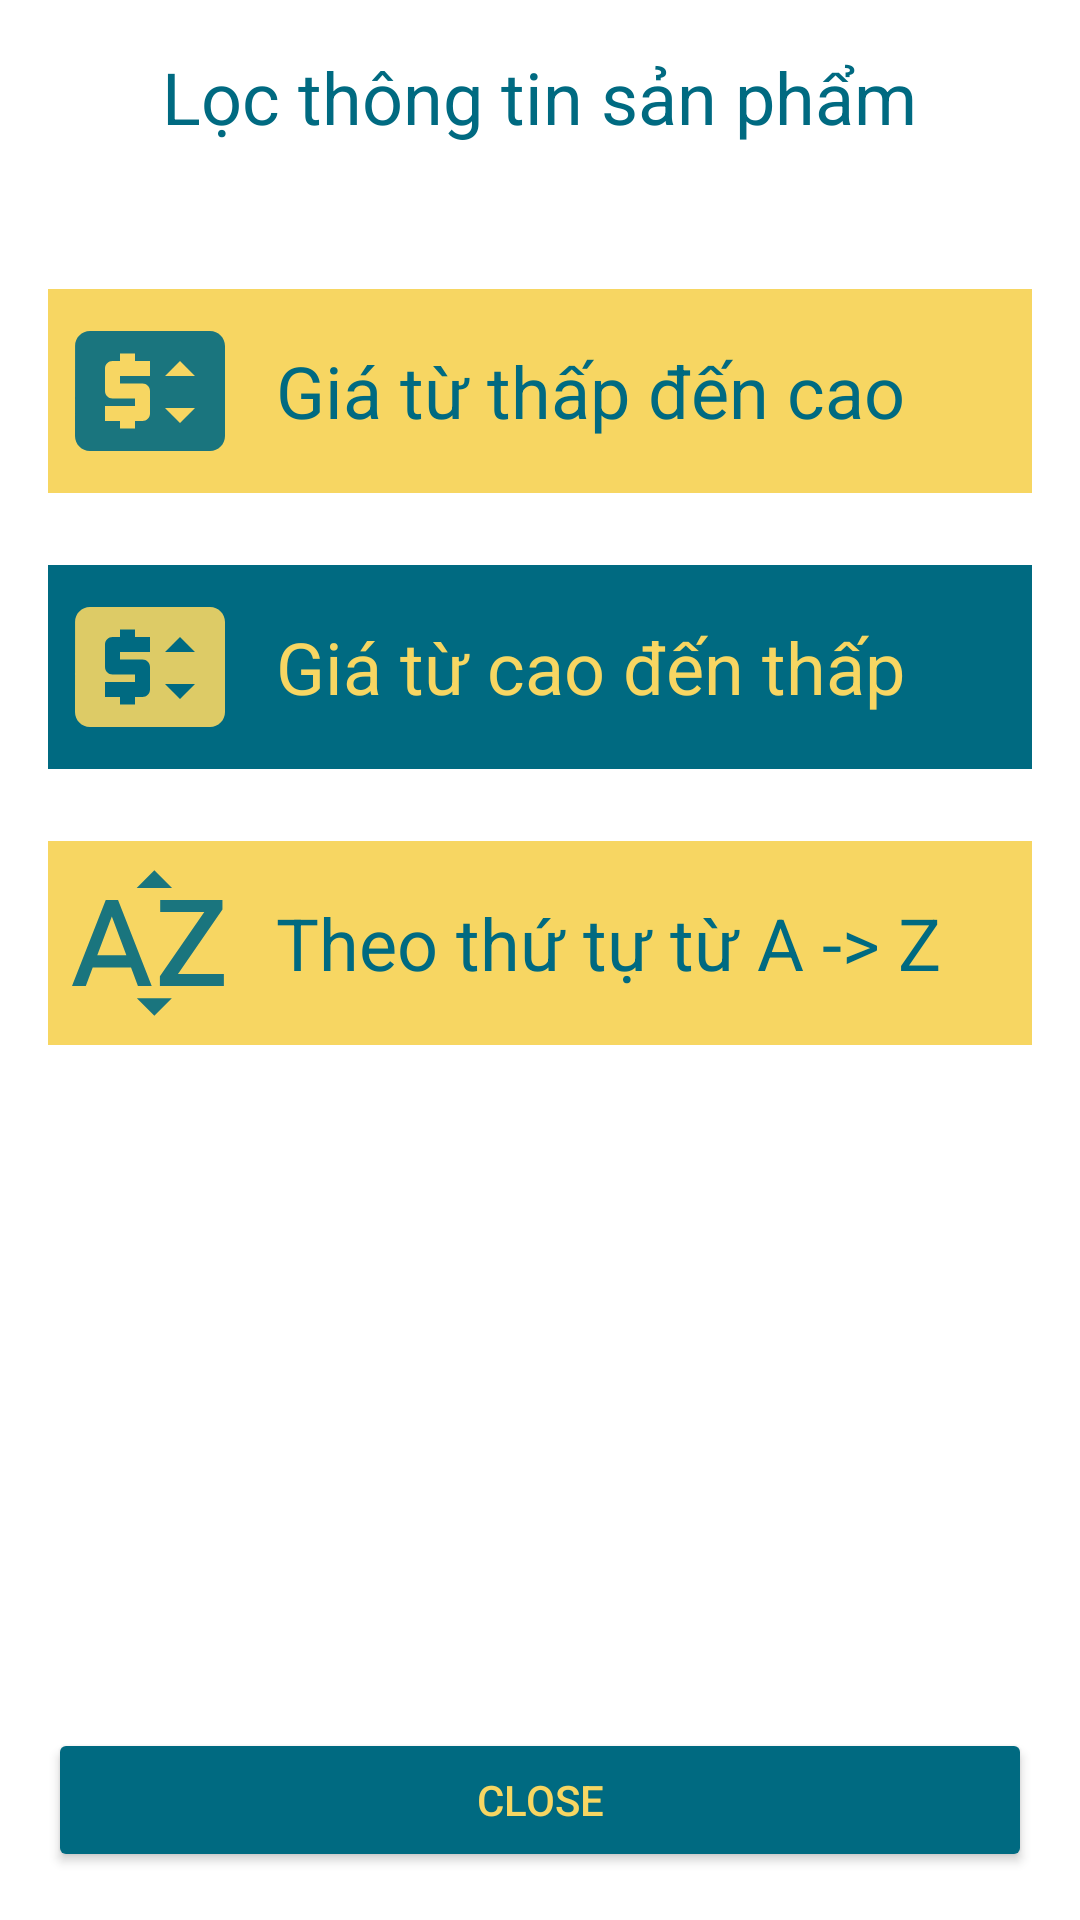

Icons on this 1080w x 1920h Android screen, each with the point to tap as (x,y):
price high to low: (150,667)
price low to high: (150,391)
sort by: (148,943)
